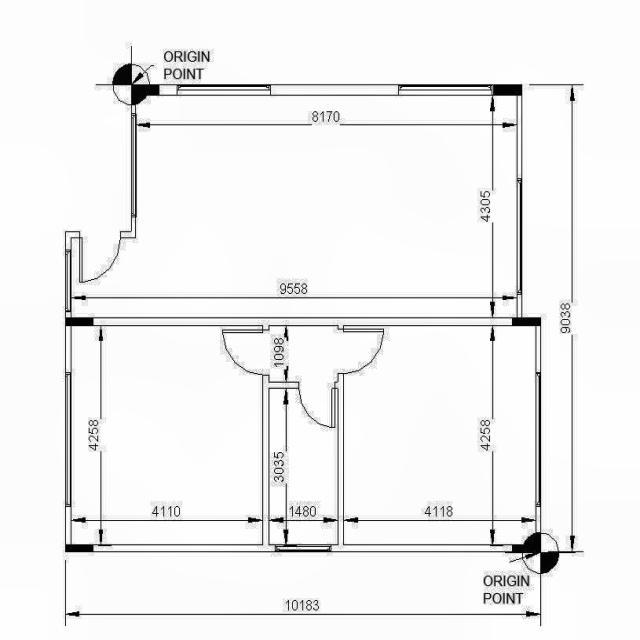Column: (65, 250, 72, 312), (493, 84, 522, 96), (131, 84, 160, 96), (512, 544, 541, 553), (65, 318, 94, 327), (512, 318, 541, 326), (66, 544, 94, 552), (131, 96, 136, 105)
Door: (222, 329, 270, 376), (79, 231, 121, 283), (338, 328, 384, 374), (298, 382, 336, 428)
Window: (398, 84, 492, 96), (177, 84, 270, 96), (65, 372, 72, 507), (535, 372, 541, 507), (516, 178, 522, 295), (131, 112, 137, 218), (274, 544, 332, 552)
